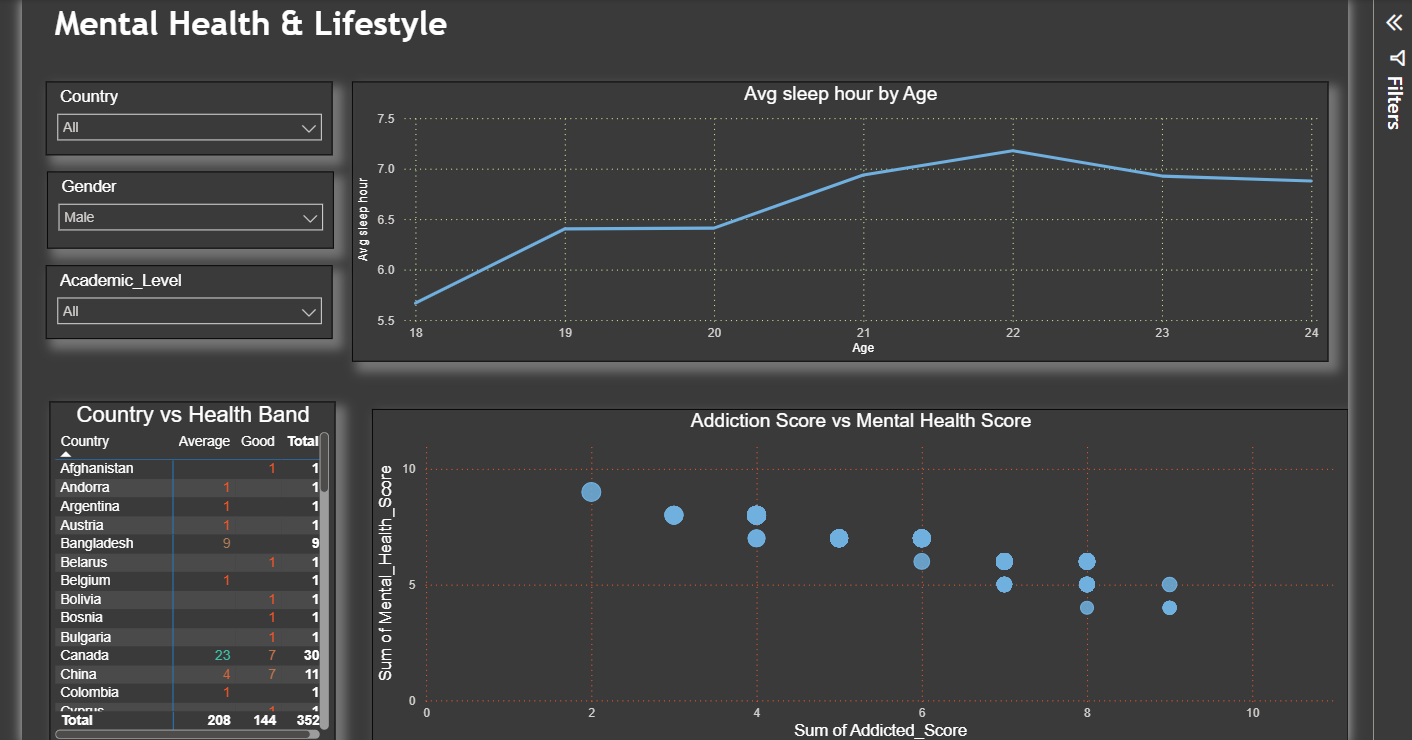

What the dashboard file says about the page in this screenshot:
{"tool":"powerbi","page":{"name":"Mental Health & Lifestyle","canvas":[1280,720],"ordinal":1},"visuals":[{"type":"pivotTable","title":"Country vs Health Band","fields":{"Rows":["Student Details.Country"],"Values":["CountNonNull(Student Details.Student_ID)"],"Columns":["Student Details.Helth Band"]},"box":[26.1,388.3,275.8,332.1],"z":0},{"type":"scatterChart","title":"Addiction Score vs Mental Health Score","fields":{"X":["Sum(Student Details.Addicted_Score)"],"Y":["Sum(Student Details.Mental_Health_Score)"],"Category":["Student Details.Student_ID"],"Size":["Sum(Student Details.Mental_Health_Score)"]},"box":[337.6,395.2,942.7,325.2],"z":1000},{"type":"lineChart","fields":{"Category":["Student Details.Age"],"Y":["Student Details.Avg sleep hour"]},"box":[318.5,79.6,942.2,270.2],"z":2000},{"type":"slicer","fields":{"Values":["Student Details.Country"]},"box":[23.3,79.6,277.2,71.4],"z":3000},{"type":"slicer","fields":{"Values":["Student Details.Gender"]},"box":[24.7,166,277.2,74.1],"z":4000},{"type":"slicer","fields":{"Values":["Student Details.Academic_Level"]},"box":[23.3,256.6,277.2,71.4],"z":5000},{"type":"textbox","box":[26.1,0,1070.3,65.9],"z":6000}]}

Visuals, with their boxes on the page's 1280x720 design canvas (x1, y1, x2, y2). These are canvas units, not pixel positions in the 1412x740 screenshot, which may show the page scaled, cropped or inside an application window:
"Country vs Health Band" pivotTable: (left=26, top=388, right=302, bottom=720)
"Addiction Score vs Mental Health Score" scatterChart: (left=338, top=395, right=1280, bottom=720)
lineChart - Student Details.Age x Student Details.Avg sleep hour: (left=318, top=80, right=1261, bottom=350)
slicer - Student Details.Country: (left=23, top=80, right=300, bottom=151)
slicer - Student Details.Gender: (left=25, top=166, right=302, bottom=240)
slicer - Student Details.Academic_Level: (left=23, top=257, right=300, bottom=328)
textbox: (left=26, top=0, right=1096, bottom=66)
